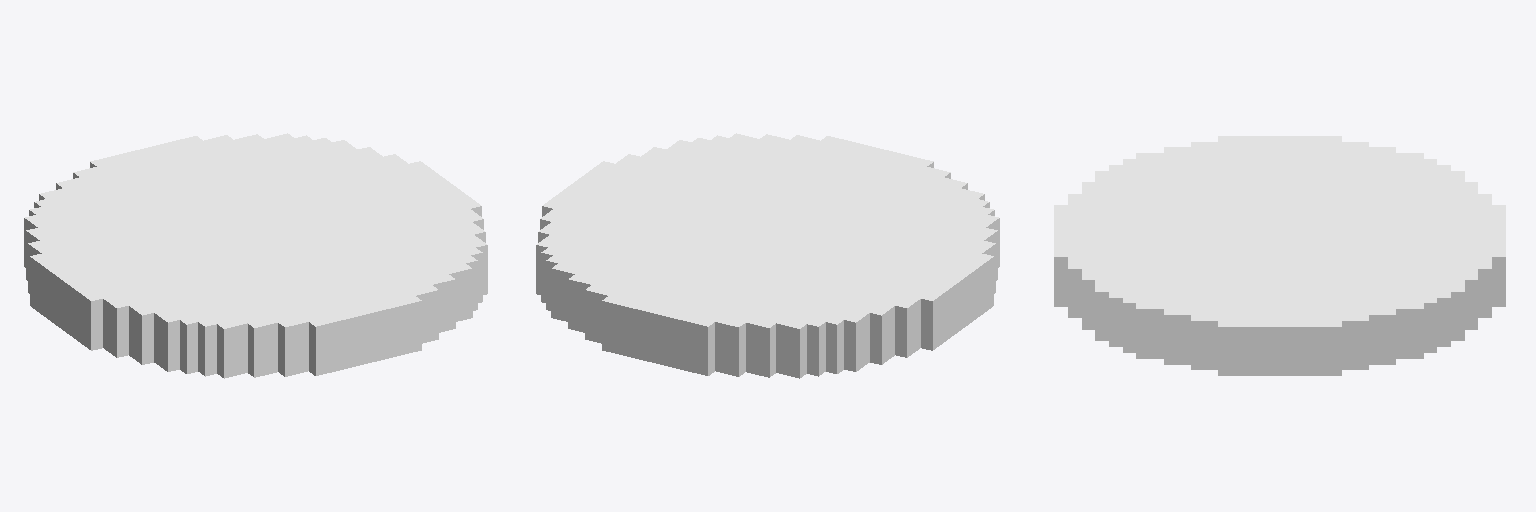
The model's file is MineBaseModel.obj.
3 views of the same model, side by side, from view 1: azimuth 30°, elevation 25°; view 2: azimuth 150°, elevation 25°; view 3: azimuth 270°, elevation 25° (orthographic).
Visible parts, largest first — view 1: MineBaseModel; view 2: MineBaseModel; view 3: MineBaseModel.
Boxes of the visible parts, <box> form: MineBaseModel: <box>24,133,487,378</box>; MineBaseModel: <box>536,133,999,378</box>; MineBaseModel: <box>1054,136,1505,375</box>.
Bounding box in the file's own units: 33 × 4 × 33.